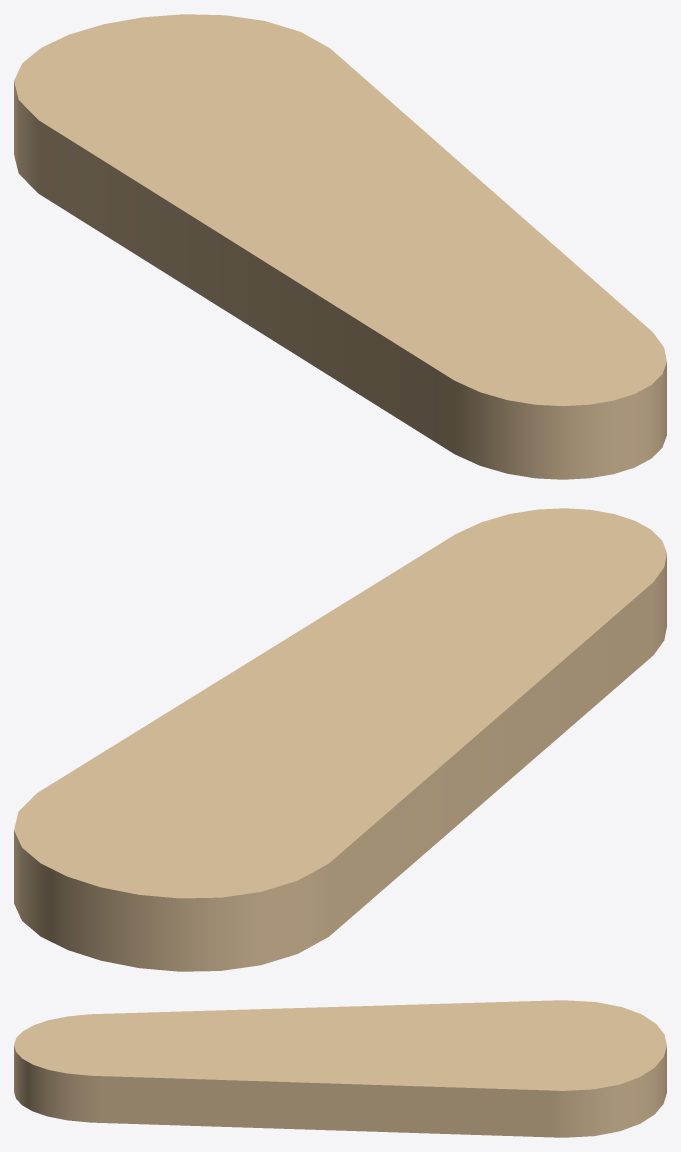
3 renders of one model, top to bottom at view 1: azimuth 30°, elevation 25°; view 2: azimuth 150°, elevation 25°; view 3: azimuth 270°, elevation 25°, orthographic. The views are drawn at different scales.
Parts seen in each view (by area): view 1: path1915; view 2: path1915; view 3: path1915.
Boxes of the visible parts, x1,y1,x2,y2 form: path1915: (14, 14, 666, 479); path1915: (14, 508, 666, 971); path1915: (14, 1000, 666, 1137).
Size of the model in its own units: 4156 by 1000 by 12636.
